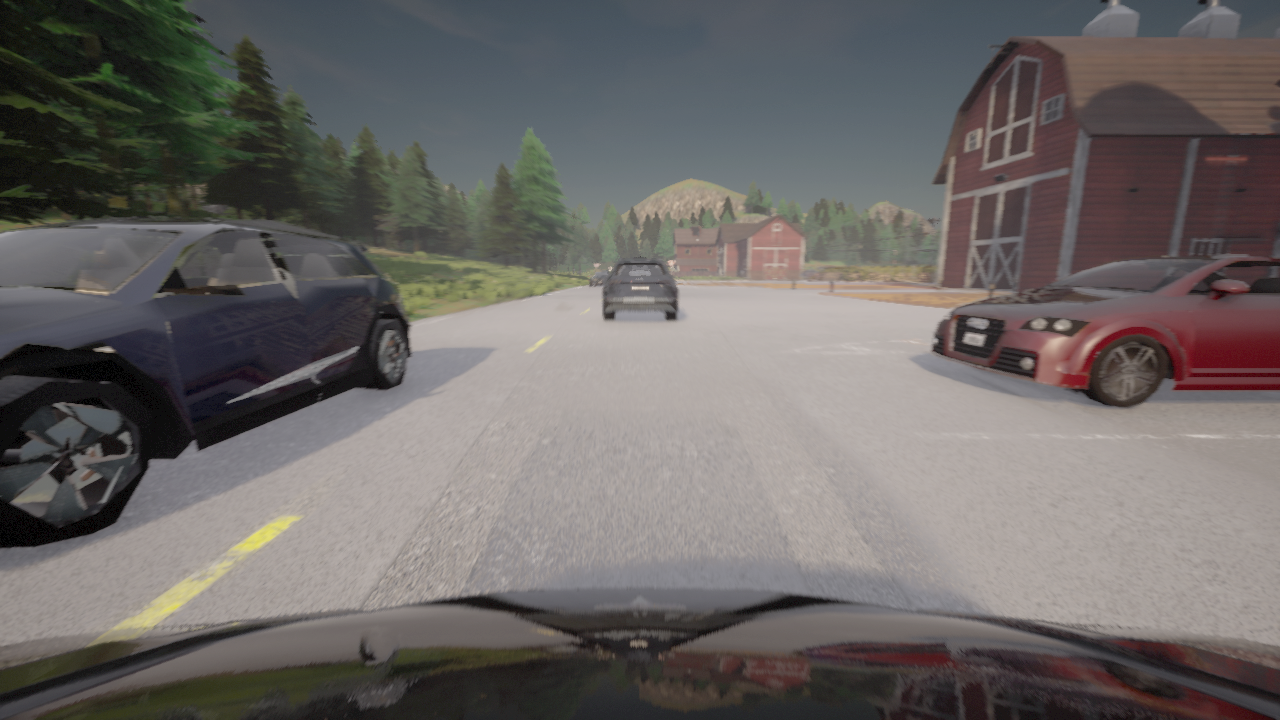cyclist: (0, 588, 1279, 719), (0, 217, 411, 548), (930, 255, 1279, 407), (602, 258, 677, 320), (590, 271, 609, 286)
